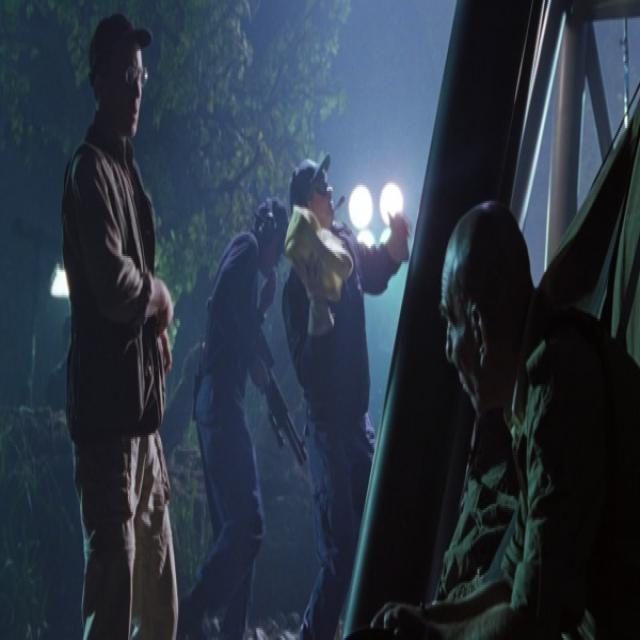rifle: (249, 338, 315, 487)
